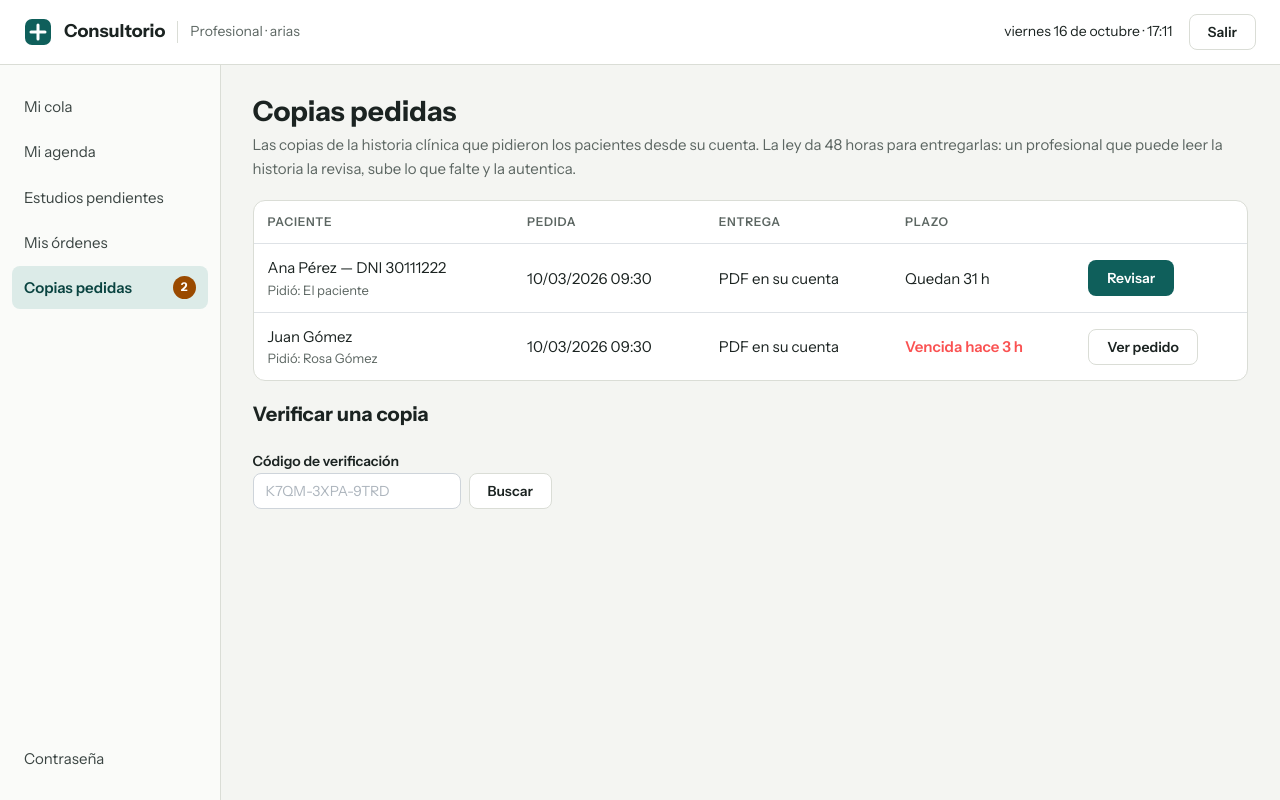
Test case: the copies asked for › lists those waiting with the time left, counted in the menu, and finds one by its code
Expected: the text "Pidió: Rosa Gómez" is shown, 268,350 -> 378,366
Expected: the text "Vencida hace 3 h" is shown, 891,312 -> 1074,380
Type "ZZZZ" into the field labelled "Código de verificación" at (356, 491), box 252,473 -> 460,509
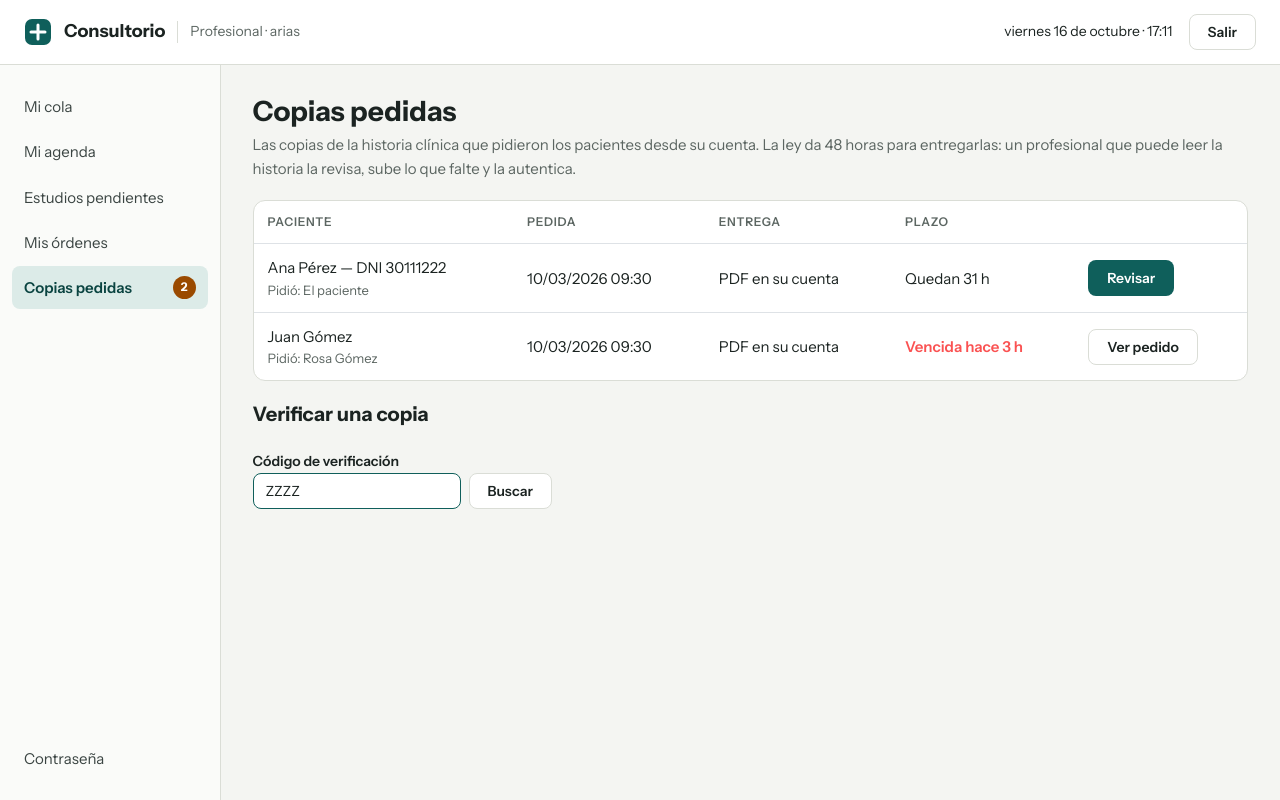
Click the button "Buscar" at (510, 491), box 468,473 -> 552,509
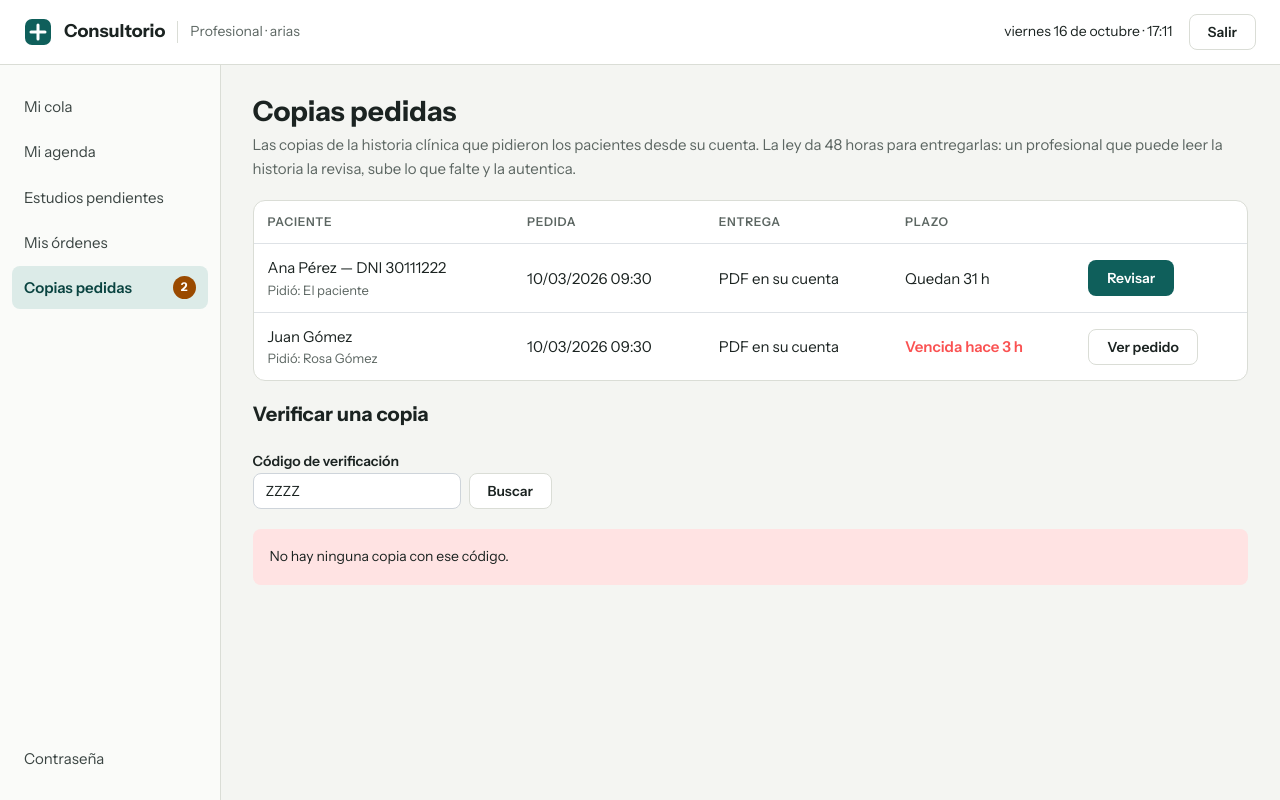
Now the text "No hay ninguna copia con ese código." is shown, box 270,547 -> 509,565
Replace the text in the field labelled "Código de verificación" with "K7QM-3XPA-9TRD" at (356, 491), box 252,473 -> 460,509
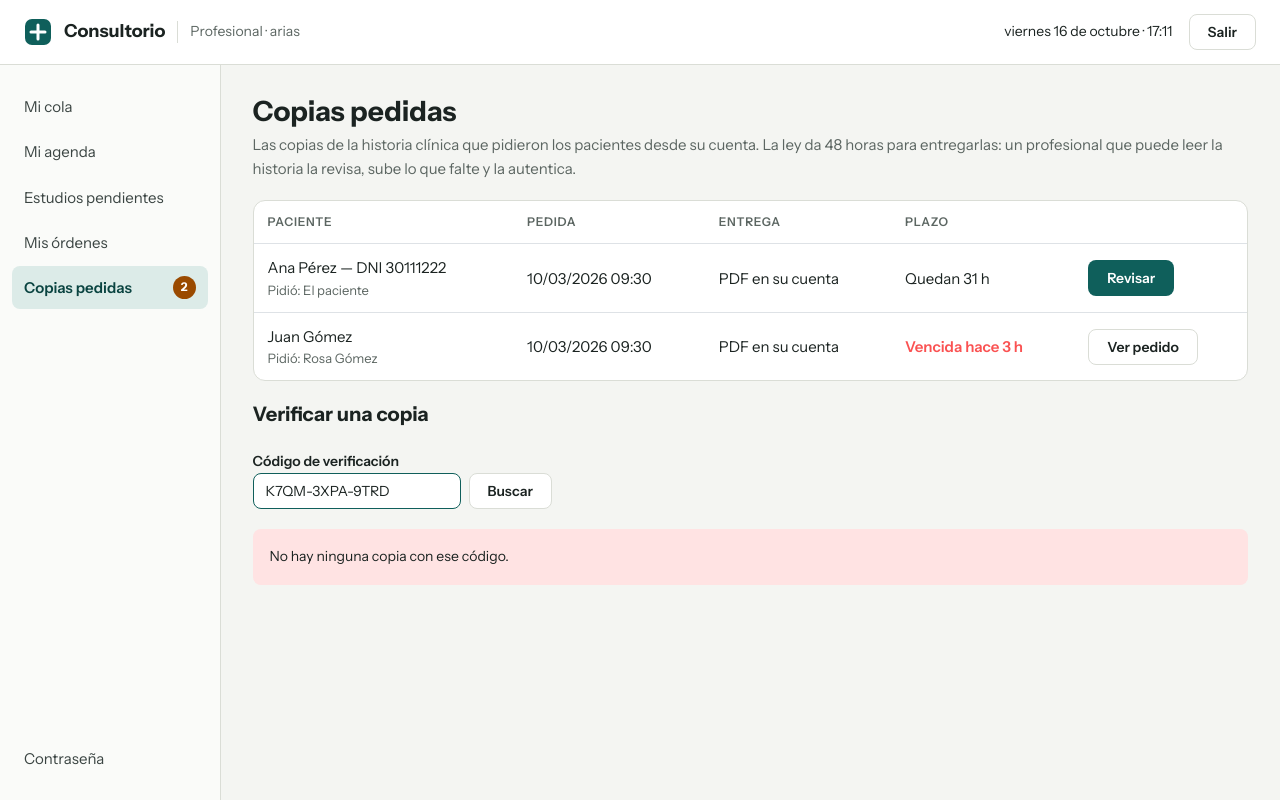
Click the button "Buscar" at (510, 491), box 468,473 -> 552,509
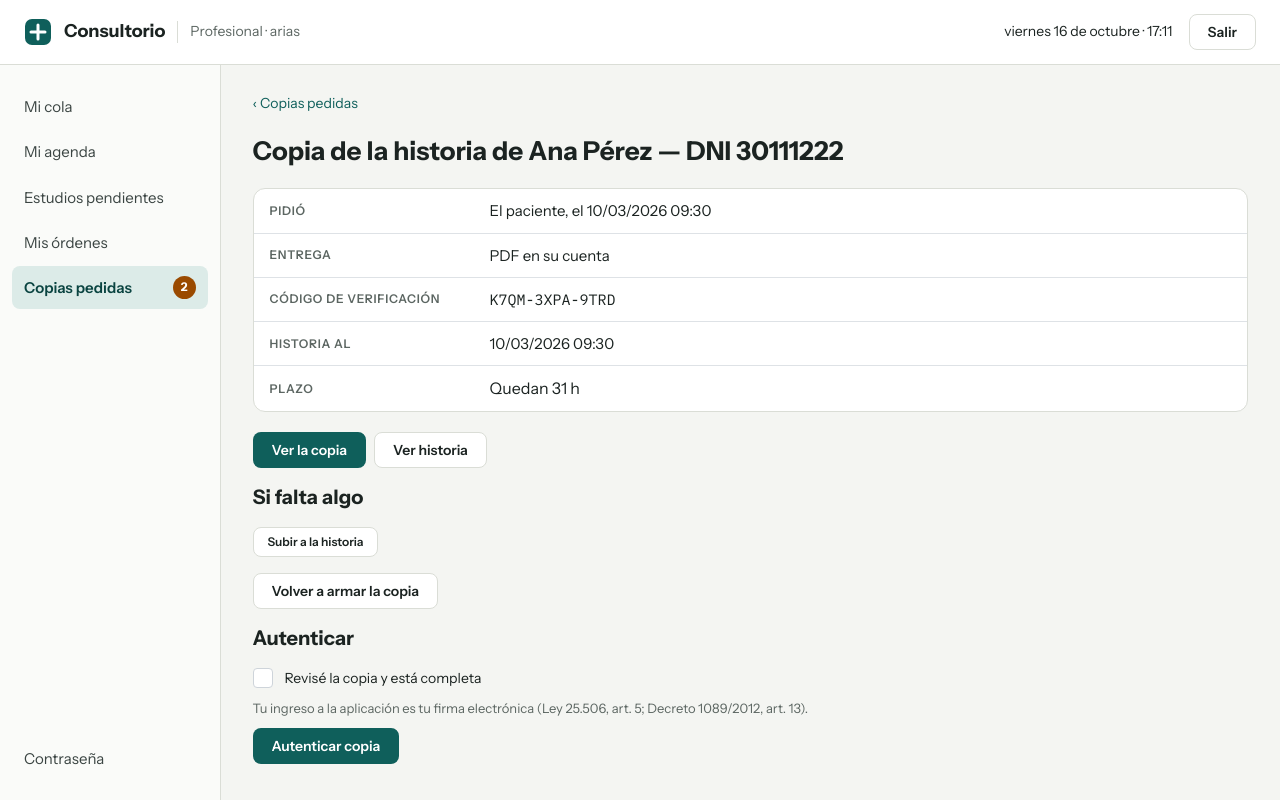
Now the heading "Copia de la historia de Ana Pérez — DNI 30111222" is shown, box 252,135 -> 844,167
